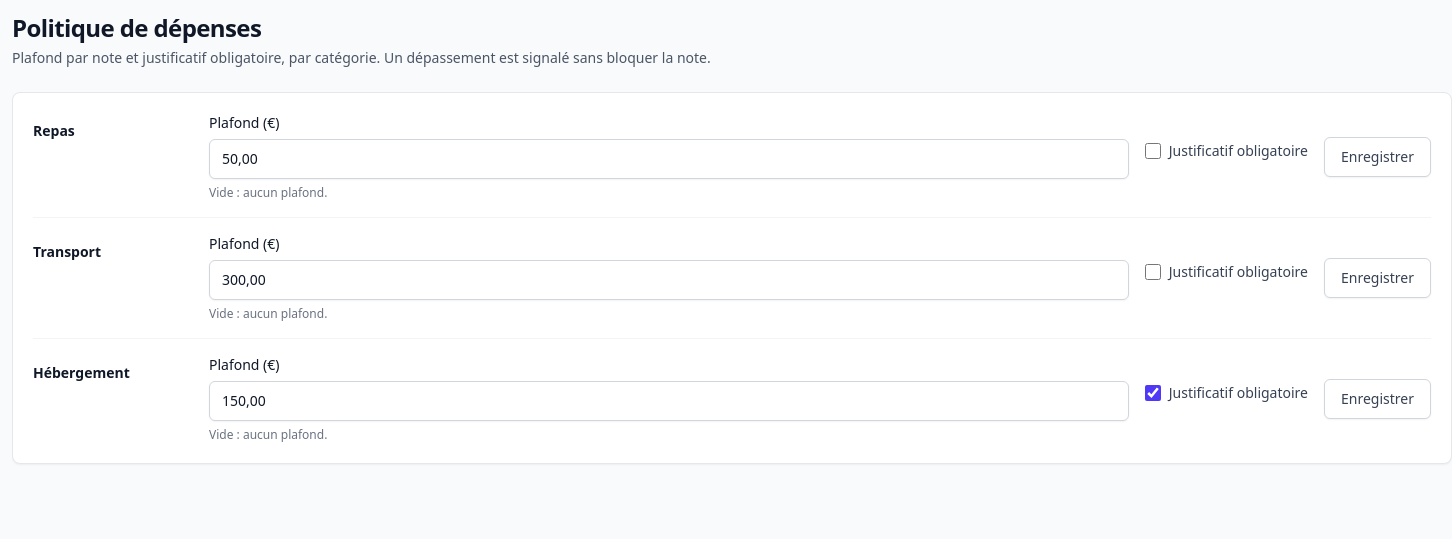
Test: PolicyPage › C2 – un plafond vidé est envoyé comme « aucun plafond »
Expected: the element "Repas" is shown, x1=33 y1=113 x2=1431 y2=201
Clear the field labelled "Plafond (€)" below "Repas" at (669, 159), box x1=209 y1=139 x2=1129 y2=179
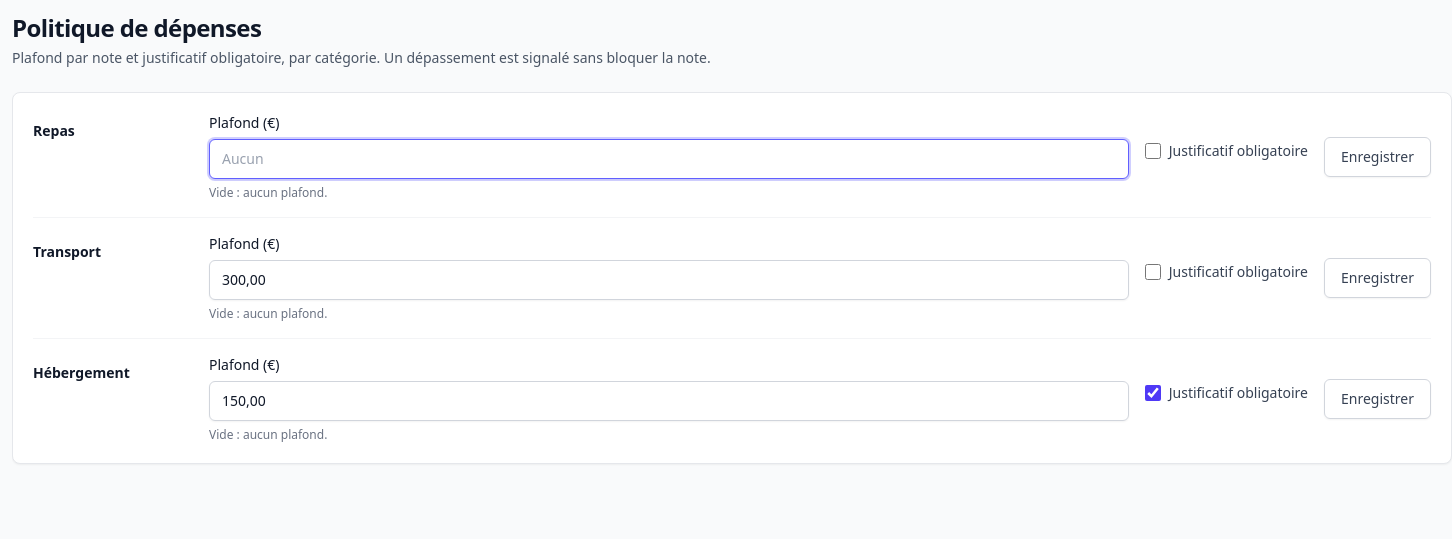
Click the button "Enregistrer" in the row of "Repas".
click(1378, 157)  # box x1=1324 y1=137 x2=1431 y2=177
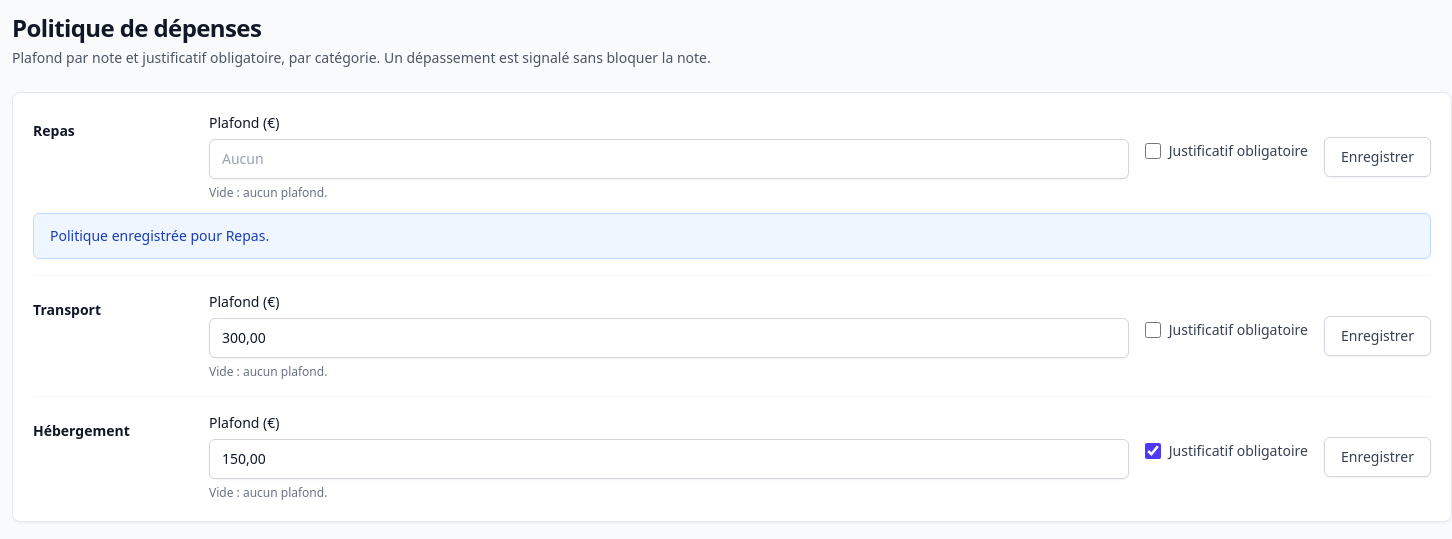
Result: the text "Politique enregistrée pour Repas." is shown at x1=33 y1=213 x2=1431 y2=259
